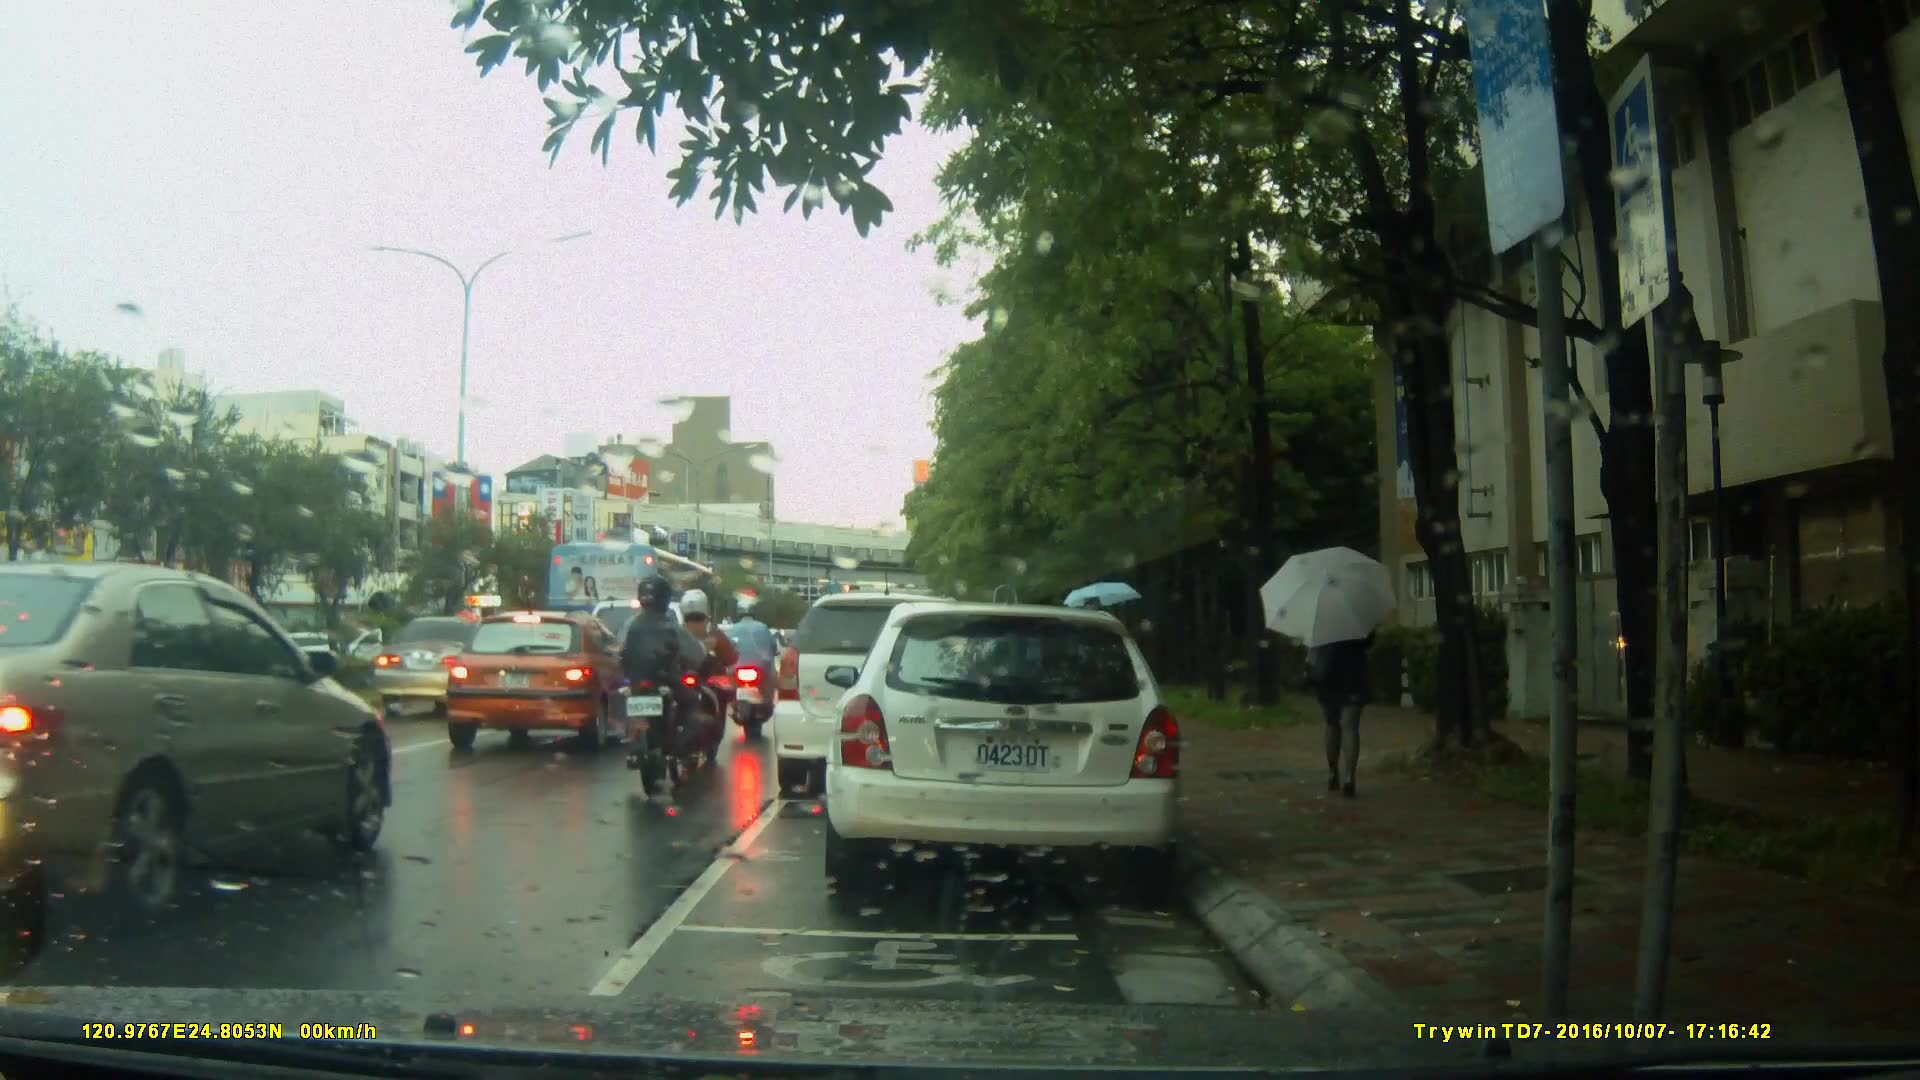pedestrian: (1285, 552, 1398, 799), (1081, 586, 1112, 744)
rider: (618, 581, 724, 797), (663, 583, 733, 777), (715, 590, 782, 744)
vehicle: (2, 560, 404, 939), (835, 594, 1194, 898), (776, 590, 1026, 784), (441, 609, 646, 758), (544, 537, 723, 670), (368, 615, 537, 722)
